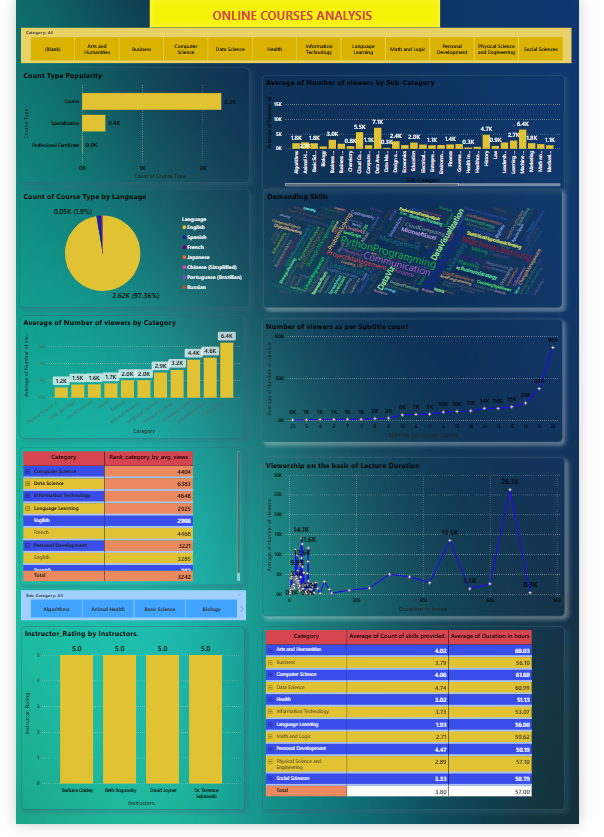

Layout of this report page (visuals, bound fields, positions):
{"tool":"powerbi","page":{"name":"Page 1","canvas":[1500,2200],"ordinal":0},"visuals":[{"type":"textbox","box":[358,0,774,76],"z":0},{"type":"slicer","fields":{"Values":["Online_Courses.Category"]},"box":[12,76,1468,94],"z":1000},{"type":"barChart","title":"Count Type Popularity","fields":{"Y":["Online_Courses.Course Type"],"Category":["Online_Courses.Course Type"]},"box":[0,190,611.7,306.7],"z":2000},{"type":"columnChart","fields":{"Category":["Online_Courses.Sub-Category","Online_Courses.Language"],"Y":["Online_Courses.Number of viewers"]},"box":[656,202,806,306],"z":3000},{"type":"WordCloud1447959067750","title":"Demanding Skills","fields":{"Category":["Online_Courses.Skills"]},"box":[660,508,796,316],"z":4000},{"type":"pieChart","fields":{"Category":["Online_Courses.Language"],"Y":["Online_Courses.Course Type"]},"box":[10,508,612,316],"z":5000},{"type":"lineStackedColumnComboChart","fields":{"Category":["Online_Courses.Category","Online_Courses.Language"],"Y":["Online_Courses.Number of viewers"]},"box":[10,842,598,328],"z":6000},{"type":"pivotTable","fields":{"Rows":["Online_Courses.Category","Online_Courses.Language"],"Values":["Online_Courses.Rank_category_by_avg_views"]},"box":[10,1198,598,366],"z":7000},{"type":"lineChart","title":"Number of viewers as per Subtitle count","fields":{"Category":["Online_Courses.Subtitle_Language_Count"],"Y":["Online_Courses.Number of viewers"]},"box":[656,854,800,328],"z":8000},{"type":"clusteredColumnChart","fields":{"Category":["Teachers.Instructors."],"Y":["Teachers.Instructor_Rating"]},"box":[12,1672,596,488],"z":9000},{"type":"slicer","fields":{"Values":["Teachers.Sub-Category"]},"box":[12,1578,600,80],"z":9001},{"type":"lineChart","title":"Viewership on the  basis of Lecture  Duration","fields":{"Category":["Online_Courses.Duration in hours"],"Y":["Online_Courses.Number of viewers"]},"box":[656,1222,806,422],"z":9002},{"type":"pivotTable","fields":{"Rows":["Online_Courses.Category","Online_Courses.Sub-Category"],"Values":["Online_Courses.Count of  skills provided.","Online_Courses.Duration in hours"]},"box":[656,1672,806,488],"z":9003}]}

Visuals, with their boxes in screenshot pixels (x1, y1, x2, y2):
textbox: <bbox>148, 0, 449, 12</bbox>
slicer - Online_Courses.Category: <bbox>13, 12, 584, 49</bbox>
"Count Type Popularity" barChart: <bbox>9, 56, 247, 176</bbox>
columnChart - Online_Courses.Sub-Category x Online_Courses.Language: <bbox>264, 61, 577, 180</bbox>
"Demanding Skills" WordCloud1447959067750: <bbox>265, 180, 575, 303</bbox>
pieChart - Online_Courses.Language x Online_Courses.Course Type: <bbox>13, 180, 251, 303</bbox>
lineStackedColumnComboChart - Online_Courses.Category x Online_Courses.Language: <bbox>13, 310, 245, 438</bbox>
pivotTable - Online_Courses.Category x Online_Courses.Language: <bbox>13, 449, 245, 591</bbox>
"Number of viewers as per Subtitle count" lineChart: <bbox>264, 315, 575, 442</bbox>
clusteredColumnChart - Teachers.Instructors. x Teachers.Instructor_Rating: <bbox>13, 633, 245, 823</bbox>
slicer - Teachers.Sub-Category: <bbox>13, 596, 247, 628</bbox>
"Viewership on the  basis of Lecture  Duration" lineChart: <bbox>264, 458, 577, 622</bbox>
pivotTable - Online_Courses.Category x Online_Courses.Sub-Category: <bbox>264, 633, 577, 823</bbox>
